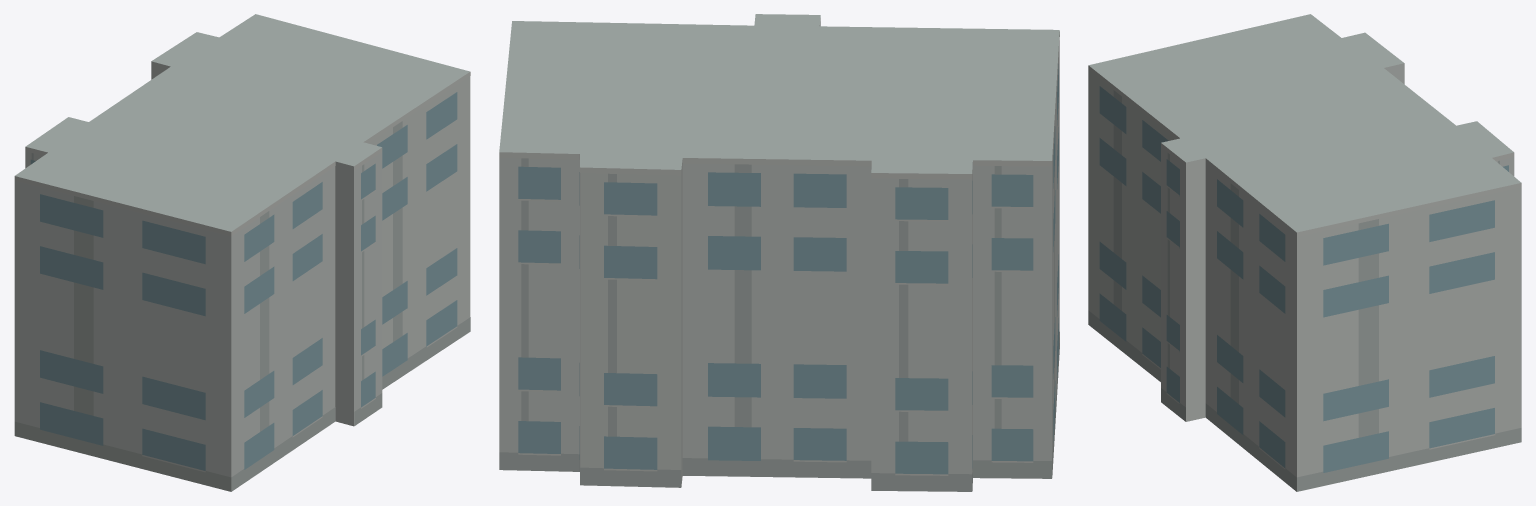
Rendered from survey-upis-32836014.glb.
3 views of the same model, side by side, from view 1: azimuth 30°, elevation 25°; view 2: azimuth 150°, elevation 25°; view 3: azimuth 270°, elevation 25° (orthographic). The views are drawn at different scales.
Visible parts, largest first — view 1: survey-upis-32836014.tmp; view 2: survey-upis-32836014.tmp; view 3: survey-upis-32836014.tmp.
Part boxes in pixels (x1,y1,x2,y2): survey-upis-32836014.tmp: (14, 14, 470, 491); survey-upis-32836014.tmp: (499, 14, 1059, 491); survey-upis-32836014.tmp: (1088, 14, 1521, 491).
Bounding box in the file's own units: 24.94 × 13.8 × 20.9.
